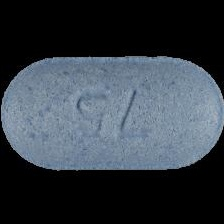0781-5182: (0, 0, 224, 224)
